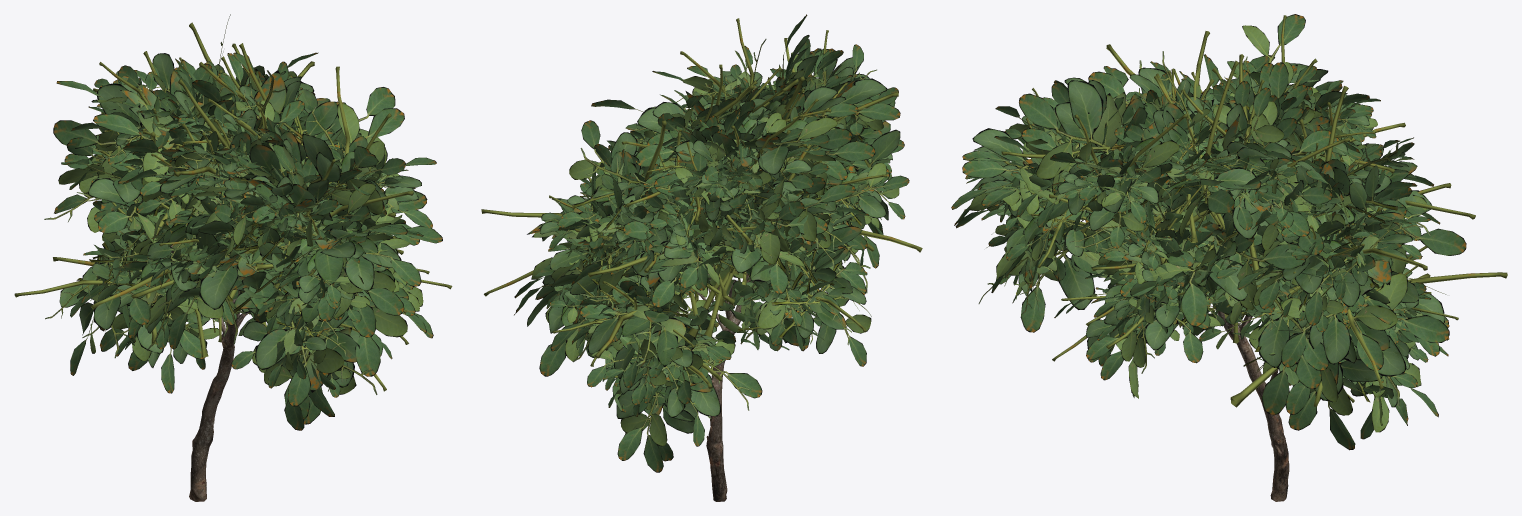
Rendered from tree_small_02.glb.
3 renders of one model, left to right at view 1: azimuth 30°, elevation 25°; view 2: azimuth 150°, elevation 25°; view 3: azimuth 270°, elevation 25°, orthographic. The views are drawn at different scales.
Visible parts, largest first — view 1: tree_small_02_LOD0; view 2: tree_small_02_LOD0; view 3: tree_small_02_LOD0.
Boxes of the visible parts, <box> form: tree_small_02_LOD0: <box>14,14,452,501</box>; tree_small_02_LOD0: <box>481,14,922,501</box>; tree_small_02_LOD0: <box>951,14,1507,501</box>.
Size of the model in its own units: 4.49 by 5.24 by 5.84.
Materials: 3 (3 with a texture image).
